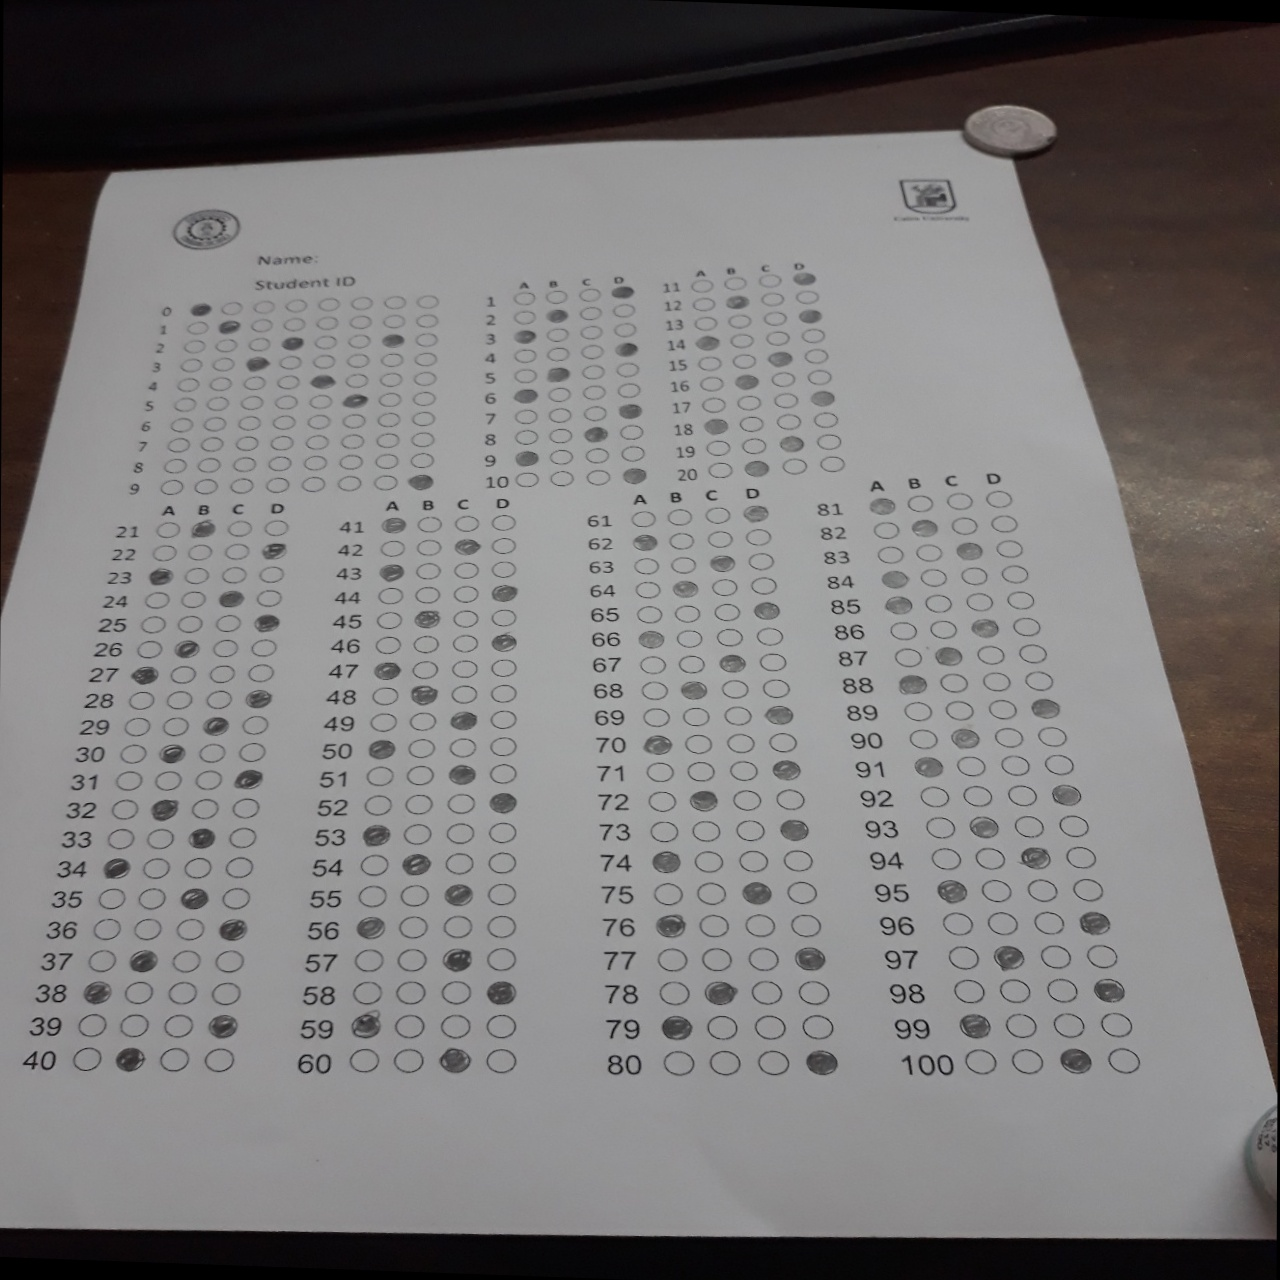not-c: (1034, 908, 1070, 935), (1051, 1012, 1088, 1037), (1040, 944, 1076, 969), (1006, 781, 1042, 806), (1099, 1012, 1135, 1037), (1012, 813, 1047, 839), (1107, 1048, 1143, 1073), (999, 753, 1035, 777), (704, 1014, 737, 1041), (1024, 878, 1060, 903), (946, 944, 978, 971), (954, 978, 986, 1005), (798, 978, 830, 1005), (788, 879, 819, 906), (737, 847, 769, 874), (772, 787, 804, 813), (964, 1048, 996, 1074), (744, 912, 777, 938), (697, 913, 730, 939), (693, 846, 726, 872), (1046, 978, 1081, 1001), (395, 978, 425, 1005), (73, 1046, 103, 1073), (177, 915, 207, 942), (960, 1012, 990, 1039), (1000, 978, 1032, 1003), (1005, 1012, 1036, 1037), (801, 1014, 832, 1040), (756, 1013, 788, 1039), (782, 846, 813, 872), (662, 1049, 694, 1075), (658, 946, 689, 972), (692, 815, 723, 840), (733, 787, 764, 812), (392, 1047, 423, 1073), (141, 856, 172, 881), (1012, 1048, 1044, 1073), (790, 912, 823, 937), (1080, 908, 1108, 937), (993, 944, 1022, 971), (938, 876, 967, 903), (913, 753, 942, 779), (757, 1049, 788, 1075), (751, 978, 782, 1003), (697, 881, 728, 907), (655, 881, 686, 907), (736, 818, 767, 844), (441, 978, 471, 1003), (486, 1012, 517, 1037), (442, 1013, 472, 1039), (394, 1013, 424, 1039), (162, 1012, 192, 1037), (118, 1012, 149, 1037), (77, 1012, 108, 1037), (124, 978, 155, 1003), (172, 947, 203, 973), (94, 915, 124, 941), (134, 917, 164, 942), (98, 885, 129, 911), (182, 853, 212, 879), (225, 856, 256, 881), (1060, 1047, 1090, 1073), (748, 946, 779, 971), (660, 981, 692, 1006), (728, 756, 760, 781), (166, 980, 198, 1005), (1087, 944, 1119, 967), (962, 588, 995, 612), (986, 697, 1020, 720), (206, 1047, 236, 1073), (159, 1047, 189, 1073), (1094, 978, 1123, 1003), (1021, 845, 1050, 871), (955, 755, 986, 779), (982, 877, 1013, 901), (708, 1050, 738, 1075), (701, 947, 731, 972), (211, 981, 241, 1006), (216, 949, 246, 974), (86, 948, 116, 973), (219, 885, 250, 910), (138, 886, 169, 911), (229, 824, 259, 849), (144, 824, 175, 849), (107, 826, 137, 851), (903, 700, 934, 723), (922, 815, 954, 838), (764, 731, 799, 753), (897, 672, 928, 695), (884, 592, 915, 615), (992, 726, 1024, 748), (981, 670, 1014, 693), (959, 564, 992, 586), (350, 1048, 380, 1073), (486, 1048, 516, 1073), (1064, 845, 1095, 869), (906, 727, 937, 750), (987, 911, 1017, 934), (763, 678, 794, 701), (125, 688, 156, 712), (931, 847, 962, 870), (646, 760, 678, 782), (115, 770, 147, 792), (974, 644, 1007, 665), (947, 515, 980, 536), (359, 885, 388, 908), (1043, 754, 1074, 776), (1058, 815, 1089, 837), (1073, 879, 1103, 901), (919, 784, 949, 806), (975, 847, 1006, 870), (942, 913, 973, 935), (685, 733, 715, 755), (681, 760, 712, 782), (648, 789, 679, 811), (648, 821, 679, 843), (641, 678, 672, 700), (676, 653, 707, 675), (636, 652, 667, 674), (675, 627, 706, 649), (714, 625, 744, 647), (486, 948, 517, 971), (190, 797, 220, 819), (195, 769, 225, 791), (152, 769, 183, 791), (196, 741, 226, 763), (159, 714, 190, 736), (121, 714, 151, 736), (164, 688, 195, 710), (204, 688, 234, 710), (166, 662, 197, 685), (136, 639, 166, 661), (1037, 726, 1068, 748), (964, 785, 995, 806), (726, 731, 757, 753), (719, 678, 750, 699), (490, 851, 518, 874), (488, 881, 516, 905), (399, 915, 427, 939), (353, 981, 381, 1005), (944, 697, 973, 720), (642, 707, 672, 729), (359, 853, 388, 876), (445, 852, 475, 874), (486, 915, 516, 938), (397, 948, 427, 971), (355, 949, 384, 972), (110, 798, 139, 821), (241, 714, 271, 736), (212, 638, 241, 660), (248, 636, 278, 659), (726, 704, 756, 726), (681, 704, 712, 726), (757, 651, 788, 672), (754, 622, 784, 644), (750, 576, 781, 597), (232, 797, 263, 818), (236, 741, 266, 762), (871, 520, 903, 540), (872, 544, 904, 564), (926, 619, 958, 639), (173, 613, 205, 633), (257, 564, 288, 584), (925, 592, 953, 614), (893, 645, 921, 667), (400, 884, 428, 906), (442, 914, 470, 937), (668, 529, 697, 550), (118, 742, 148, 763), (207, 663, 237, 685), (246, 662, 275, 683), (944, 491, 976, 510), (215, 613, 245, 633), (218, 565, 248, 585), (183, 565, 213, 585), (888, 618, 915, 640), (488, 823, 515, 845), (448, 822, 475, 844), (1051, 784, 1080, 805), (903, 493, 934, 512), (913, 542, 945, 560), (918, 567, 949, 586), (940, 670, 968, 692), (747, 550, 775, 571), (674, 601, 702, 622), (1017, 644, 1047, 663), (1024, 670, 1054, 690), (139, 588, 169, 608), (253, 587, 282, 607), (150, 543, 179, 563), (184, 543, 213, 563), (224, 517, 253, 537), (154, 519, 183, 539), (366, 764, 392, 787), (983, 489, 1014, 508), (878, 570, 908, 588), (870, 496, 900, 515), (634, 578, 661, 599), (629, 508, 656, 529), (704, 503, 731, 524), (365, 792, 392, 813), (447, 791, 474, 812), (1007, 590, 1035, 610), (1013, 617, 1041, 636), (708, 527, 736, 547), (632, 556, 660, 576), (665, 508, 693, 527), (812, 410, 840, 430), (806, 367, 835, 387), (139, 614, 168, 634), (181, 590, 209, 610), (222, 542, 250, 561), (261, 517, 290, 537), (1000, 564, 1029, 583), (404, 822, 430, 843), (745, 526, 772, 546), (712, 577, 738, 597), (713, 602, 740, 622), (636, 602, 663, 622), (670, 556, 697, 576), (819, 454, 846, 474), (815, 433, 842, 452), (413, 659, 440, 679), (449, 685, 476, 704), (408, 738, 435, 758), (490, 737, 518, 756), (805, 343, 830, 365), (489, 763, 515, 783), (416, 513, 442, 533), (415, 561, 441, 581), (452, 583, 478, 602), (452, 633, 478, 653), (377, 610, 403, 629), (410, 712, 436, 731), (407, 765, 433, 785), (406, 794, 431, 813), (302, 454, 329, 472), (270, 414, 297, 433), (275, 373, 302, 392), (241, 373, 268, 392), (489, 685, 516, 703), (452, 512, 479, 531), (452, 560, 479, 579), (415, 585, 442, 604), (413, 633, 440, 652), (375, 635, 402, 654), (372, 685, 399, 703), (370, 712, 397, 730), (449, 736, 476, 755), (585, 445, 611, 464), (315, 312, 341, 331), (313, 332, 339, 350), (314, 350, 340, 369), (306, 393, 332, 411), (305, 414, 331, 433), (306, 433, 332, 451), (267, 455, 293, 474), (279, 352, 305, 370), (239, 392, 265, 410), (234, 433, 260, 451), (417, 538, 443, 557), (377, 586, 403, 605), (452, 610, 478, 628), (451, 659, 477, 678), (994, 540, 1023, 557), (990, 515, 1017, 532), (760, 291, 787, 308), (268, 435, 295, 452), (195, 477, 222, 495), (159, 477, 186, 495), (173, 374, 200, 392), (181, 335, 207, 353), (489, 537, 516, 554), (379, 539, 406, 557), (581, 304, 606, 322), (338, 475, 362, 493), (273, 393, 298, 411), (232, 454, 257, 472), (727, 311, 753, 328), (731, 352, 757, 369), (774, 393, 799, 410), (774, 413, 799, 430), (706, 461, 731, 478), (782, 456, 808, 474), (619, 422, 645, 440), (614, 381, 640, 399), (581, 325, 607, 342), (544, 325, 570, 342), (546, 386, 572, 403), (547, 408, 573, 425), (513, 406, 539, 423), (549, 448, 574, 465), (547, 428, 573, 445), (511, 427, 537, 444), (281, 315, 307, 333), (250, 315, 275, 333), (299, 476, 325, 493), (266, 476, 292, 493), (247, 336, 273, 354), (237, 415, 263, 433), (230, 477, 256, 495), (196, 458, 222, 476), (162, 457, 188, 475), (199, 436, 225, 454), (165, 435, 191, 452), (200, 415, 226, 433), (169, 415, 195, 433), (204, 394, 230, 411), (171, 395, 197, 413), (206, 374, 232, 392), (210, 354, 236, 372), (178, 355, 204, 373), (186, 316, 212, 334), (219, 300, 245, 318), (491, 610, 517, 627), (489, 709, 515, 727), (699, 376, 726, 393), (508, 287, 535, 304), (757, 271, 782, 288), (696, 354, 721, 372), (729, 331, 754, 348), (770, 372, 795, 389), (736, 394, 761, 411), (614, 360, 639, 377), (513, 347, 538, 365), (512, 367, 537, 384), (586, 468, 611, 485), (415, 312, 440, 329), (415, 350, 440, 368), (374, 474, 399, 491), (347, 332, 372, 349), (801, 327, 826, 343), (688, 275, 714, 292), (692, 294, 717, 311), (761, 309, 787, 326), (762, 329, 788, 346), (694, 314, 720, 331), (706, 440, 731, 456), (741, 437, 767, 454), (620, 445, 646, 462), (611, 322, 636, 339), (611, 301, 636, 318), (544, 288, 570, 305), (579, 342, 605, 359), (579, 365, 605, 381), (581, 384, 607, 401), (583, 406, 608, 422), (549, 470, 574, 486), (515, 471, 540, 488), (416, 294, 442, 311), (345, 353, 370, 369), (490, 561, 516, 578), (489, 659, 515, 675), (350, 313, 374, 331), (723, 274, 748, 291), (701, 396, 726, 413), (579, 286, 604, 302), (511, 309, 536, 326), (544, 345, 568, 361), (411, 369, 436, 386), (350, 293, 375, 309), (251, 297, 275, 313), (795, 290, 821, 305), (738, 417, 764, 433), (490, 515, 516, 530), (416, 331, 440, 347), (410, 433, 434, 449), (410, 454, 434, 470), (377, 410, 401, 427), (286, 297, 309, 313), (342, 413, 366, 429), (341, 452, 365, 469), (411, 392, 436, 407), (411, 411, 436, 427), (373, 452, 397, 468), (377, 392, 402, 407), (381, 350, 406, 366), (318, 297, 342, 312), (343, 372, 368, 387), (215, 336, 239, 352), (376, 431, 400, 447), (382, 313, 406, 328), (382, 294, 406, 309), (341, 433, 365, 448), (379, 372, 403, 386)
taken-c: (486, 788, 517, 813), (401, 852, 433, 877), (445, 762, 477, 787), (440, 1048, 470, 1073), (443, 883, 474, 907), (362, 821, 393, 845), (368, 735, 399, 760), (115, 1047, 145, 1071), (449, 708, 481, 731), (440, 948, 472, 971), (742, 881, 771, 906), (794, 946, 823, 971), (704, 980, 734, 1005), (661, 1015, 692, 1039), (486, 981, 517, 1005), (350, 1014, 381, 1037), (355, 915, 386, 939), (653, 850, 682, 873), (808, 1049, 837, 1073), (83, 980, 113, 1003), (933, 645, 964, 667), (967, 815, 998, 837), (486, 629, 517, 652), (375, 560, 406, 583), (1029, 697, 1061, 719), (219, 918, 247, 941), (209, 1015, 237, 1039), (955, 539, 985, 561), (948, 727, 979, 748), (968, 619, 999, 640), (907, 516, 938, 537), (409, 685, 440, 706), (373, 659, 403, 680), (489, 581, 519, 602), (103, 856, 130, 879), (181, 885, 207, 908), (658, 915, 686, 938), (642, 734, 672, 755), (413, 610, 443, 629), (377, 515, 408, 535), (130, 949, 157, 972), (234, 768, 263, 789), (159, 743, 188, 764), (689, 791, 719, 811), (779, 819, 809, 839), (217, 588, 244, 610), (188, 828, 215, 849), (772, 760, 801, 779), (203, 716, 229, 737), (151, 798, 177, 819), (261, 540, 288, 560), (629, 535, 660, 552), (765, 706, 794, 724), (753, 601, 782, 619), (716, 654, 745, 672), (636, 629, 666, 647), (679, 680, 708, 697), (173, 638, 199, 658), (454, 537, 481, 556), (513, 448, 540, 467), (512, 384, 539, 403), (511, 325, 538, 343), (545, 365, 572, 383), (253, 613, 280, 632), (244, 689, 271, 708), (188, 520, 215, 539), (147, 568, 173, 587), (131, 666, 158, 685), (731, 372, 760, 389), (670, 580, 699, 598), (309, 372, 336, 389), (796, 309, 826, 325), (791, 268, 819, 285), (694, 334, 722, 350), (774, 436, 802, 452), (743, 461, 771, 477), (742, 505, 770, 522), (408, 474, 434, 491), (280, 333, 306, 350), (218, 318, 244, 335), (219, 316, 245, 334), (808, 390, 837, 406), (703, 417, 730, 434), (379, 331, 406, 347), (186, 300, 213, 316), (763, 350, 791, 366), (341, 392, 367, 408), (247, 355, 273, 372), (726, 294, 753, 309), (709, 554, 736, 570), (610, 282, 634, 299), (621, 467, 646, 482), (617, 403, 641, 418), (583, 427, 606, 442), (613, 342, 636, 358), (545, 308, 570, 322)
